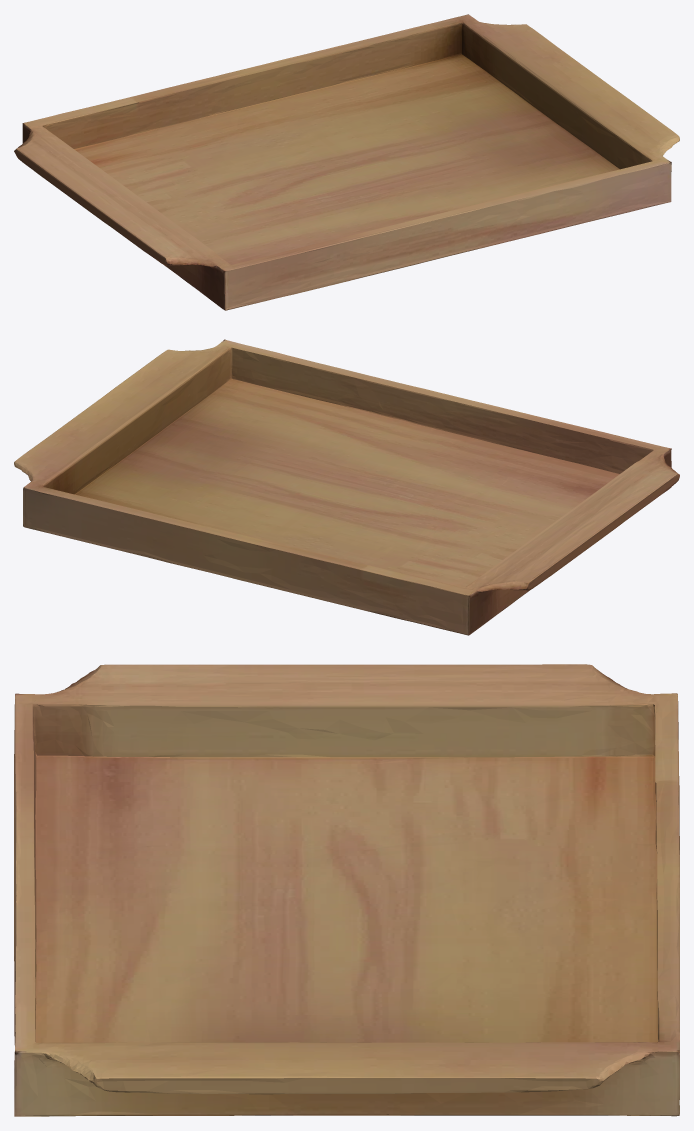
3 views of the same model, one above another, from view 1: azimuth 30°, elevation 25°; view 2: azimuth 150°, elevation 25°; view 3: azimuth 270°, elevation 25° (orthographic). The views are drawn at different scales.
Parts seen in each view (by area): view 1: world; view 2: world; view 3: world.
Boxes of the visible parts, box(x1,y1,x2,y2) form: world: box(14, 14, 679, 310); world: box(14, 339, 679, 635); world: box(14, 664, 679, 1116).
Bounding box in the file's own units: 1 × 0.0787 × 0.686.
1 material, 1 textured.
